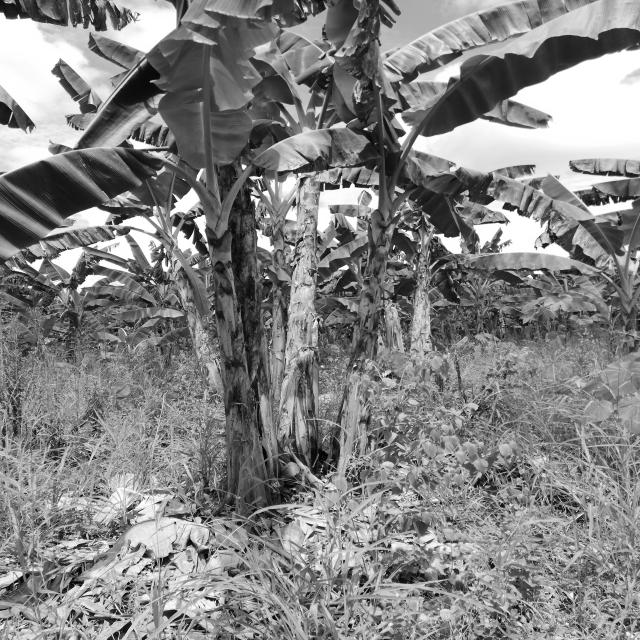Banana-plant: (263, 78, 358, 486), (187, 181, 266, 516), (320, 200, 408, 490)
